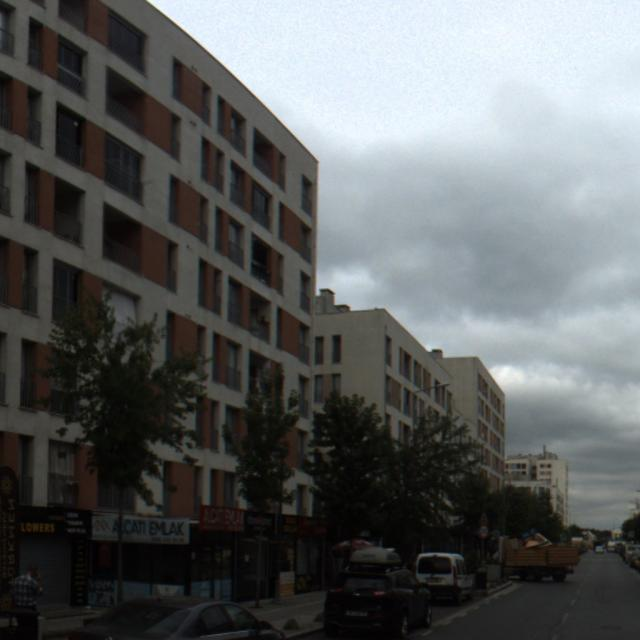SignStore: (92, 516, 189, 545), (19, 505, 91, 537), (199, 505, 246, 533), (246, 511, 276, 534), (299, 515, 328, 536), (282, 515, 299, 534)
